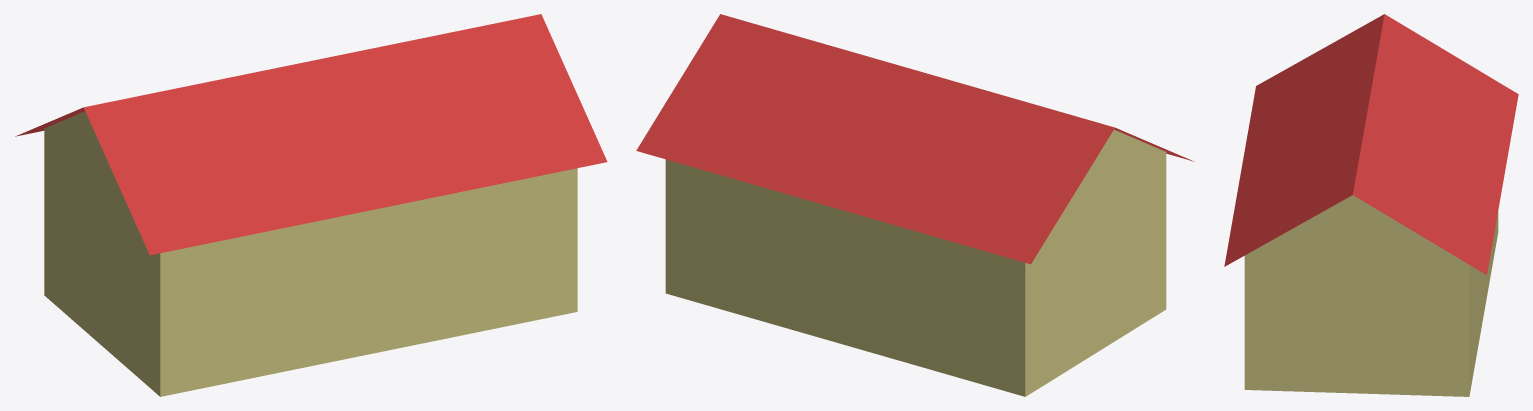
The picture shows the model from 3 angles, left to right: view 1: azimuth 30°, elevation 25°; view 2: azimuth 150°, elevation 25°; view 3: azimuth 270°, elevation 25°; orthographic projection. The views are drawn at different scales.
Bounding box in the file's own units: 17.7 × 11.64 × 9.
